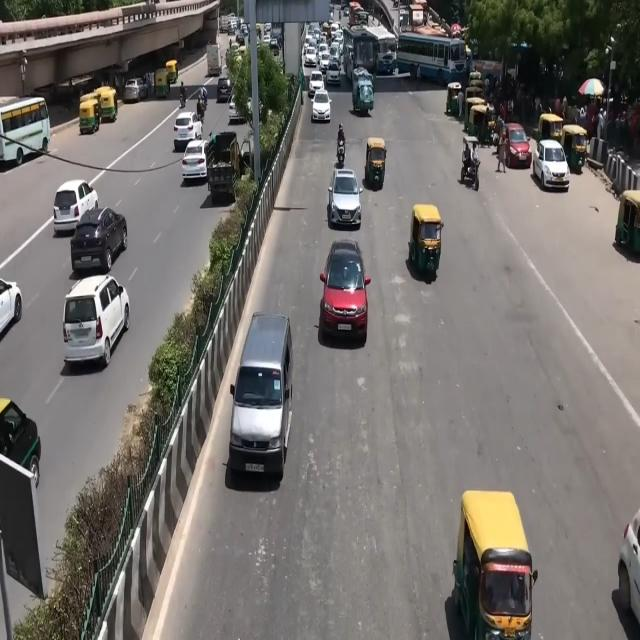auto: (451, 490, 534, 637), (408, 202, 444, 276), (365, 137, 387, 187), (78, 95, 100, 134), (96, 86, 118, 123), (154, 68, 169, 99), (165, 59, 178, 86)
bike-auto: (336, 124, 346, 160)
